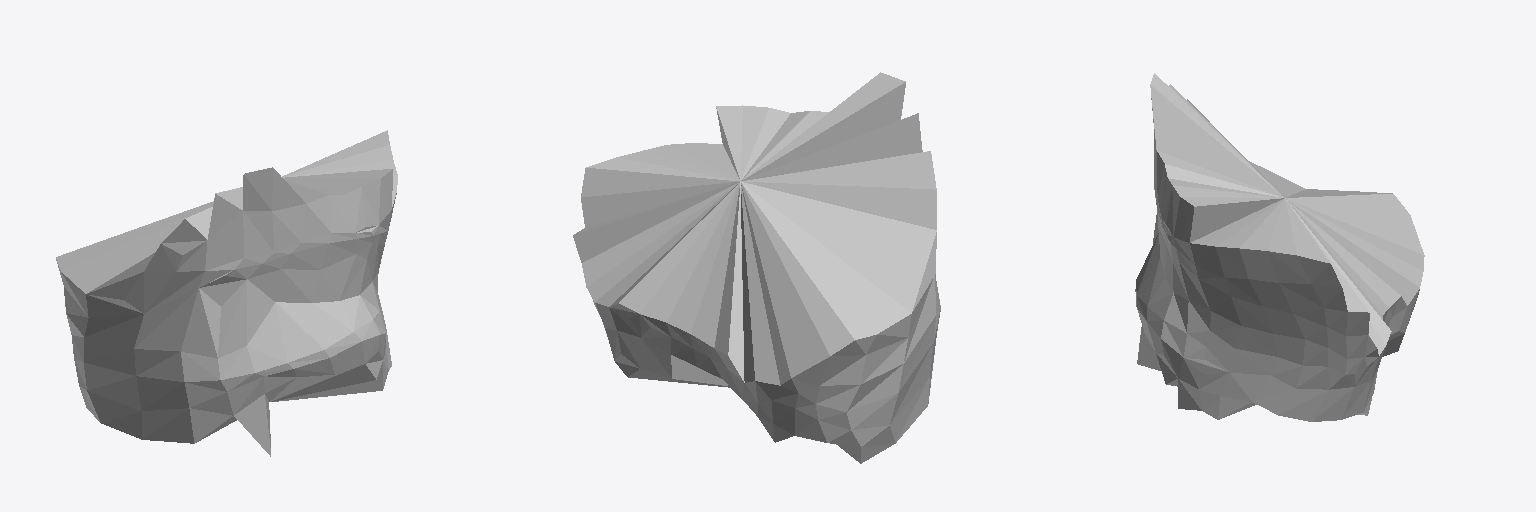
The model's file is trompa_Alta.obj.
The picture shows the model from 3 angles: view 1: azimuth 30°, elevation 25°; view 2: azimuth 150°, elevation 25°; view 3: azimuth 270°, elevation 25°; orthographic projection.
Visible parts, largest first — view 1: trompa_Alta; view 2: trompa_Alta; view 3: trompa_Alta.
Boxes of the visible parts, x1=… form: trompa_Alta: x1=56, y1=130, x2=397, y2=456; trompa_Alta: x1=573, y1=72, x2=940, y2=463; trompa_Alta: x1=1135, y1=73, x2=1424, y2=421.
Bounding box in the file's own units: 33.74 × 30.37 × 26.91.